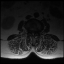CCS_severe_stenosis: (32, 30, 33, 36)
LFS_severe_stenosis: (35, 30, 37, 35)
LLS_severe_stenosis: (34, 30, 35, 35)
RFS_severe_stenosis: (28, 29, 30, 34)
RLS_severe_stenosis: (30, 30, 32, 34)
